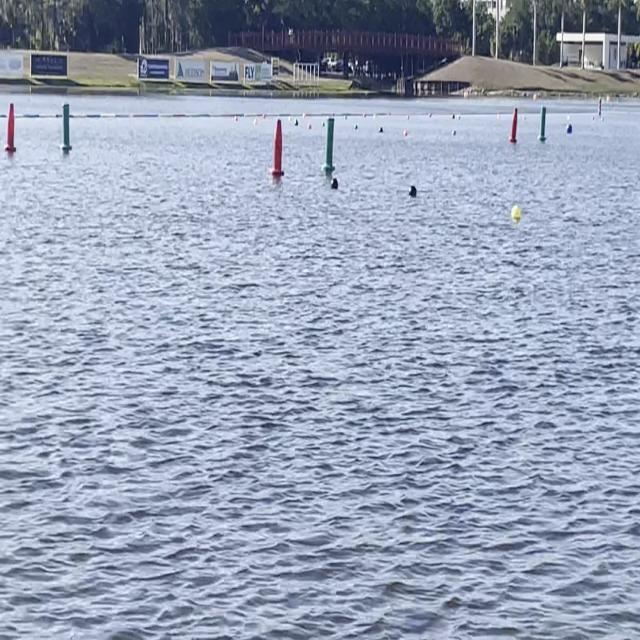buoy: (511, 204, 522, 222), (408, 184, 418, 199), (331, 177, 338, 192), (566, 123, 572, 134)
